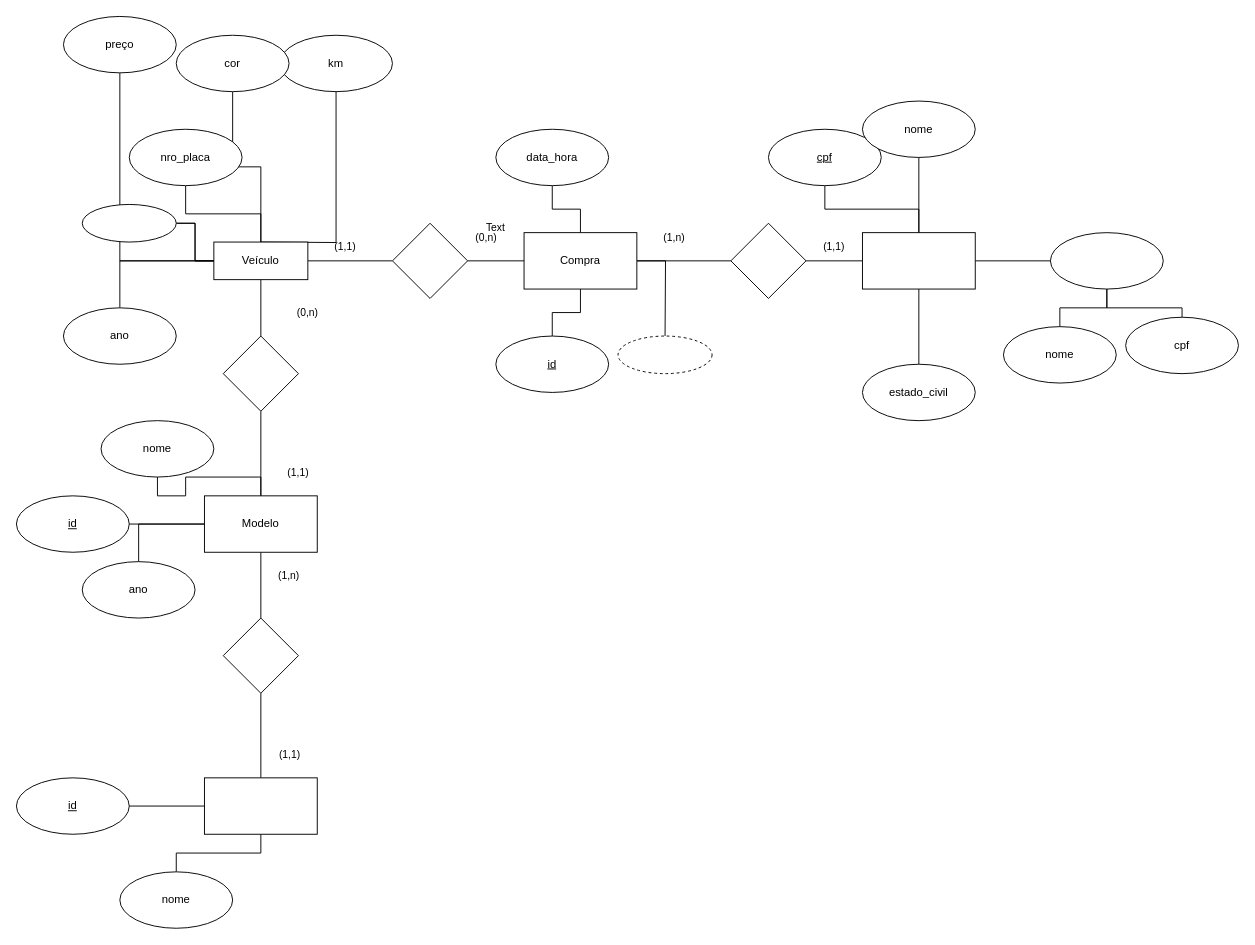
The diagram is 1255 pixels wide and 945 high, and some of its shapes have lost their labels. The shapes that lost their labels are listed below. From the top down, each one's centre as x and y in pixels, then its label:
[128,223]: chassi
[430,260]: participa
[768,260]: efetua
[918,260]: Cliente
[1106,260]: cônjuge
[260,373]: pertence
[664,354]: valor_total
[260,655]: tem
[260,805]: Marca
